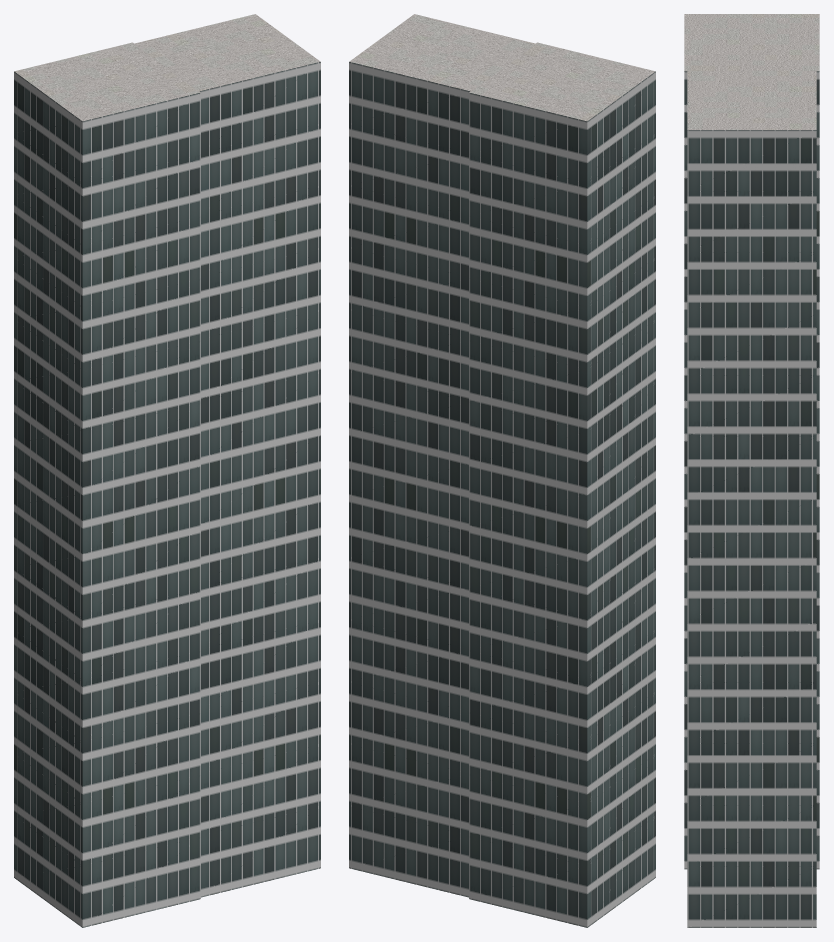
File: building_006.glb
The picture shows the model from 3 angles, left to right: view 1: azimuth 30°, elevation 25°; view 2: azimuth 150°, elevation 25°; view 3: azimuth 270°, elevation 25°; orthographic projection.
Visible parts, largest first — view 1: building_006; view 2: building_006; view 3: building_006.
Boxes of the visible parts, x1,y1,x2,y2 form: building_006: (14,14,320,927); building_006: (349,14,655,927); building_006: (684,14,819,927).
Bounding box in the file's own units: 1821 × 5850 × 900.
Materials: 2 (2 with a texture image).
